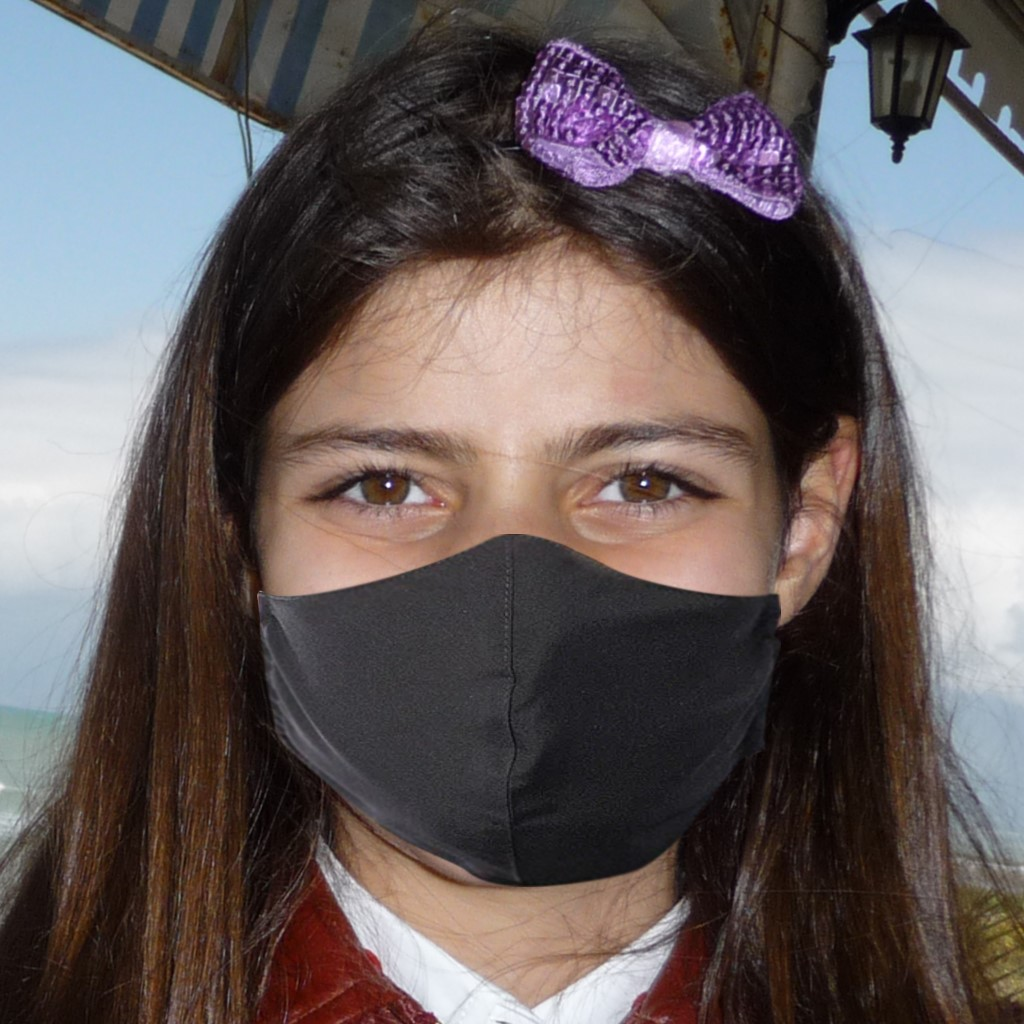con_mascara: (215, 159, 825, 893)
